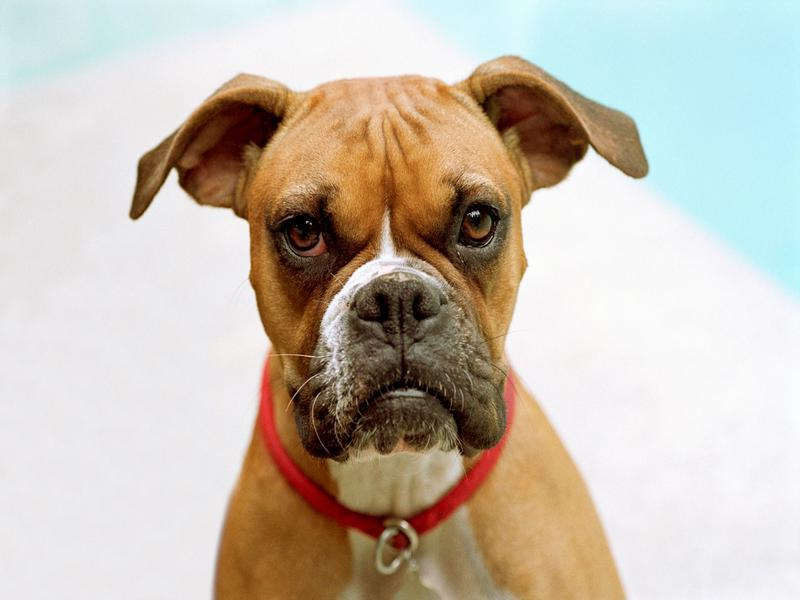dog: (125, 54, 651, 600)
